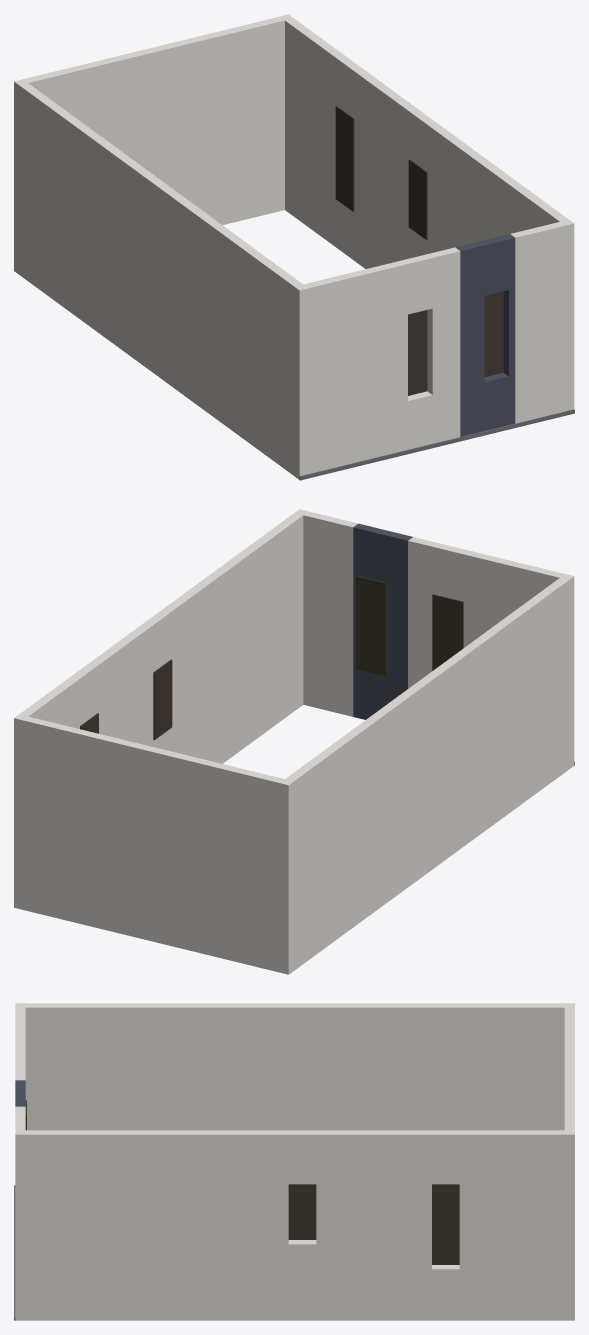
Rendered from SM_Floor_NarrowUpperScatterLowEndR_White_455_01.gltf.
The picture shows the model from 3 angles, top to bottom: view 1: azimuth 30°, elevation 25°; view 2: azimuth 150°, elevation 25°; view 3: azimuth 270°, elevation 25°; orthographic projection. The views are drawn at different scales.
Visible parts, largest first — view 1: SM_Floor_NarrowUpperScatterLowEndR_White_455_01; view 2: SM_Floor_NarrowUpperScatterLowEndR_White_455_01; view 3: SM_Floor_NarrowUpperScatterLowEndR_White_455_01.
Boxes of the visible parts, box(x1,y1,x2,y2) form: SM_Floor_NarrowUpperScatterLowEndR_White_455_01: box(14, 14, 574, 480); SM_Floor_NarrowUpperScatterLowEndR_White_455_01: box(14, 509, 574, 974); SM_Floor_NarrowUpperScatterLowEndR_White_455_01: box(14, 1003, 574, 1320).
Size of the model in its own units: 4.55 by 3 by 8.21.
1 material, 1 textured.
